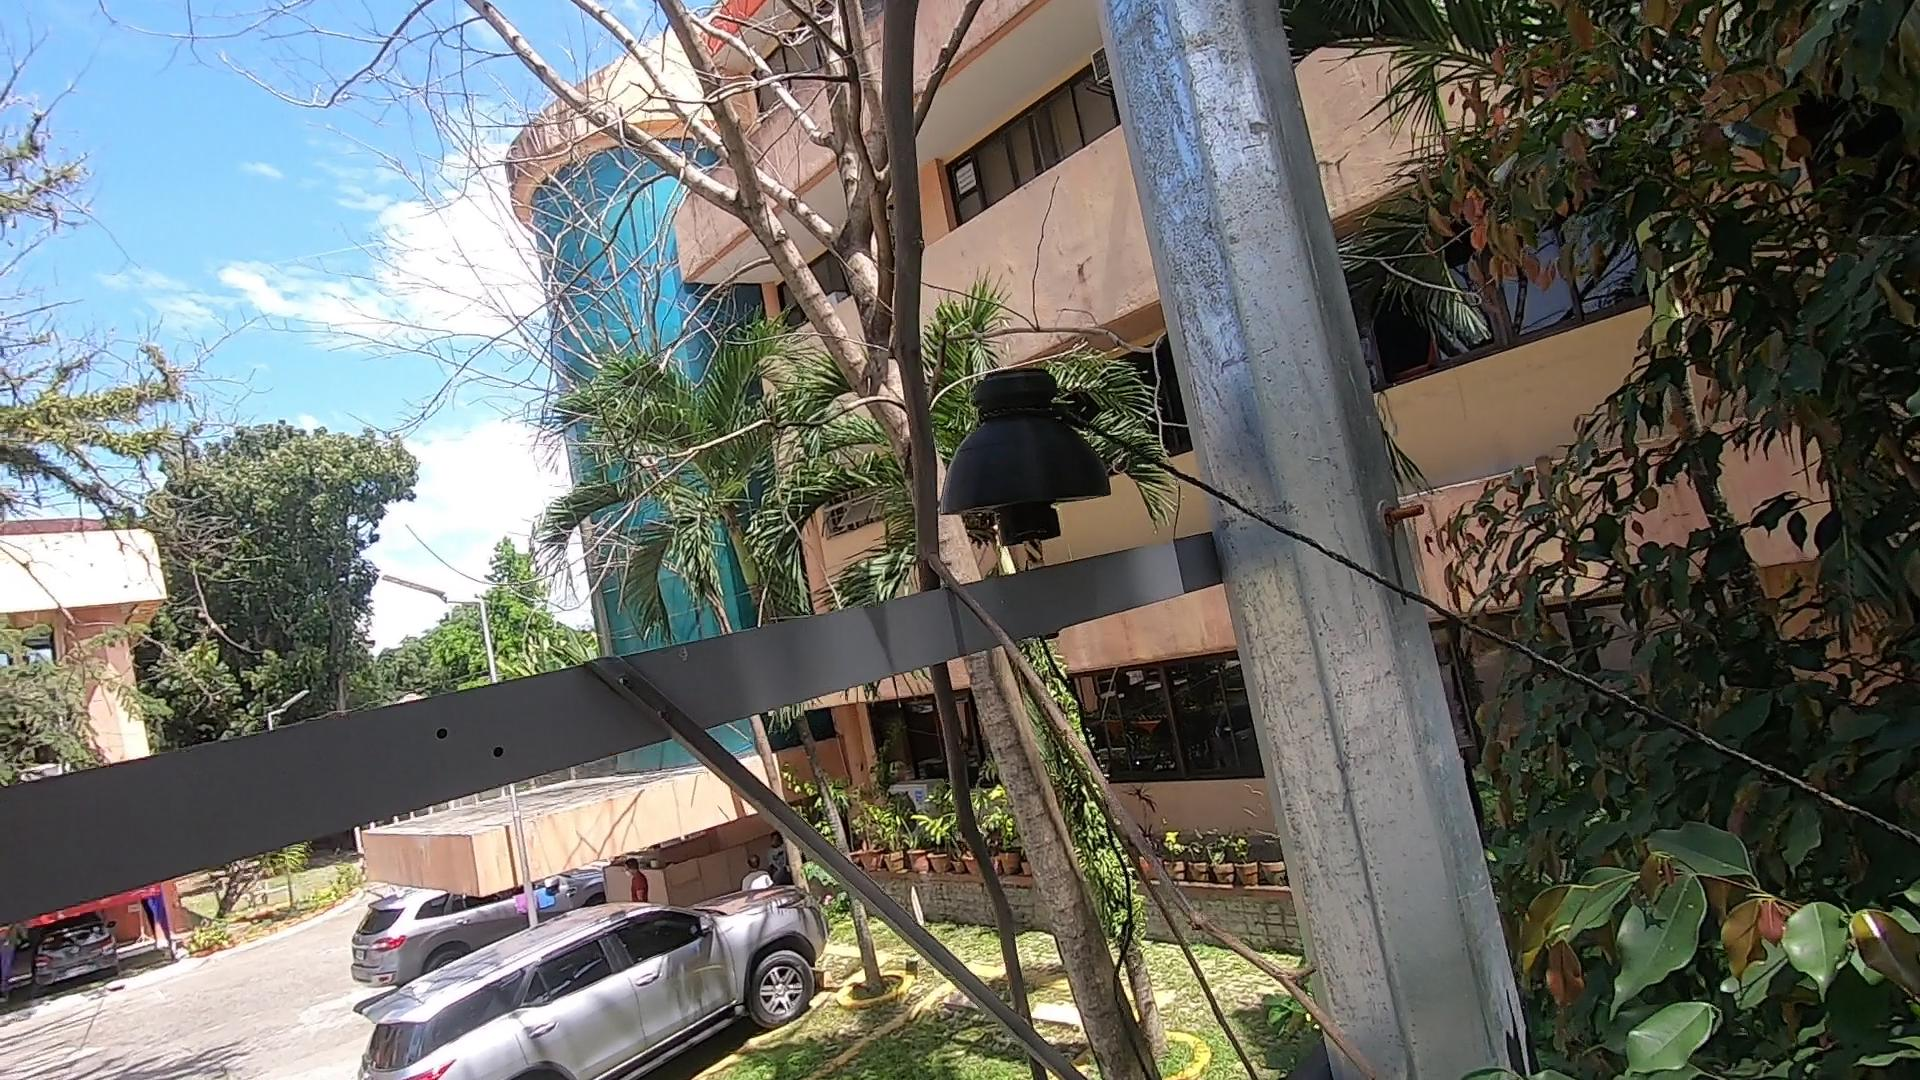tree branch: (785, 3, 1407, 1080)
